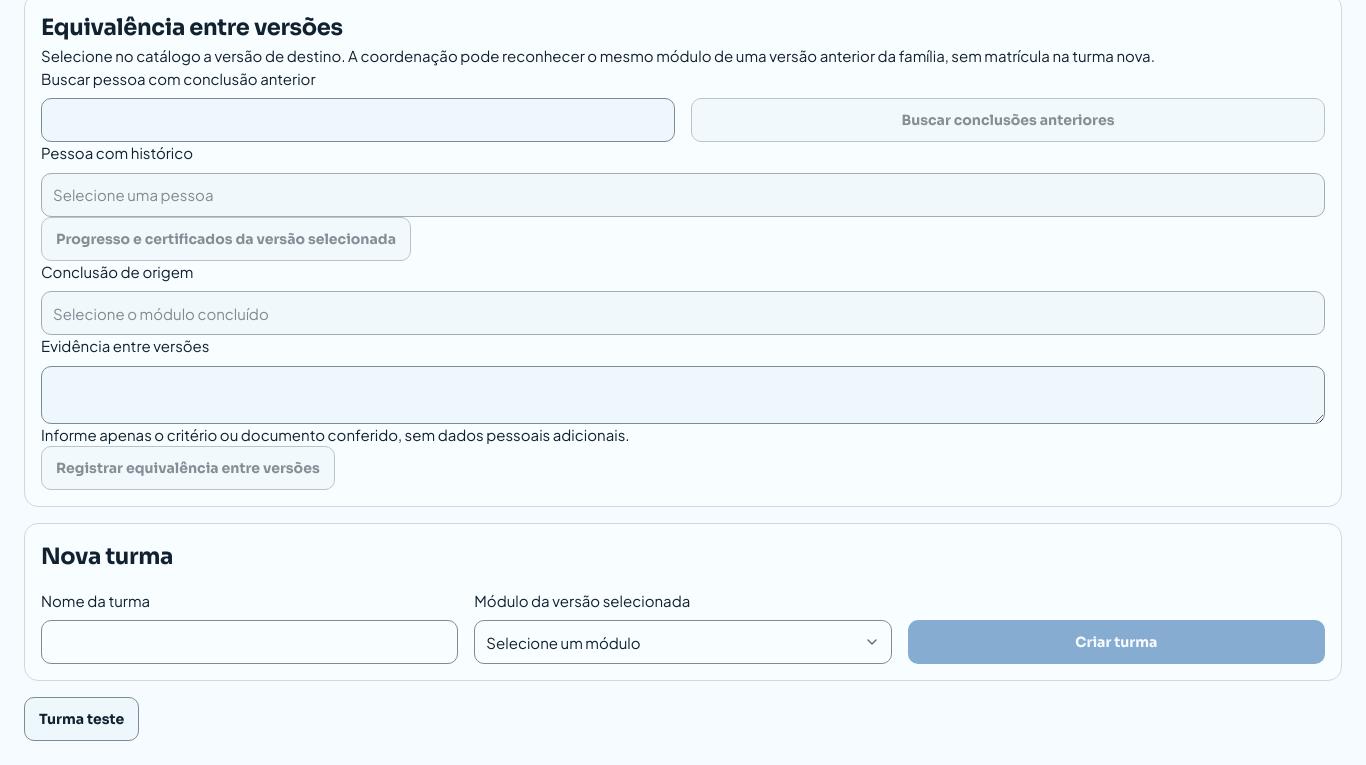
Scenario: mostra pessoa arquivada e mantém cancelamento disponível
(page scrolled)
What coordinates should you click on to do the following:
click the button "Turma teste"
I would click on:
 (82, 719)
Its box is [24,697,139,741].
(page scrolled)
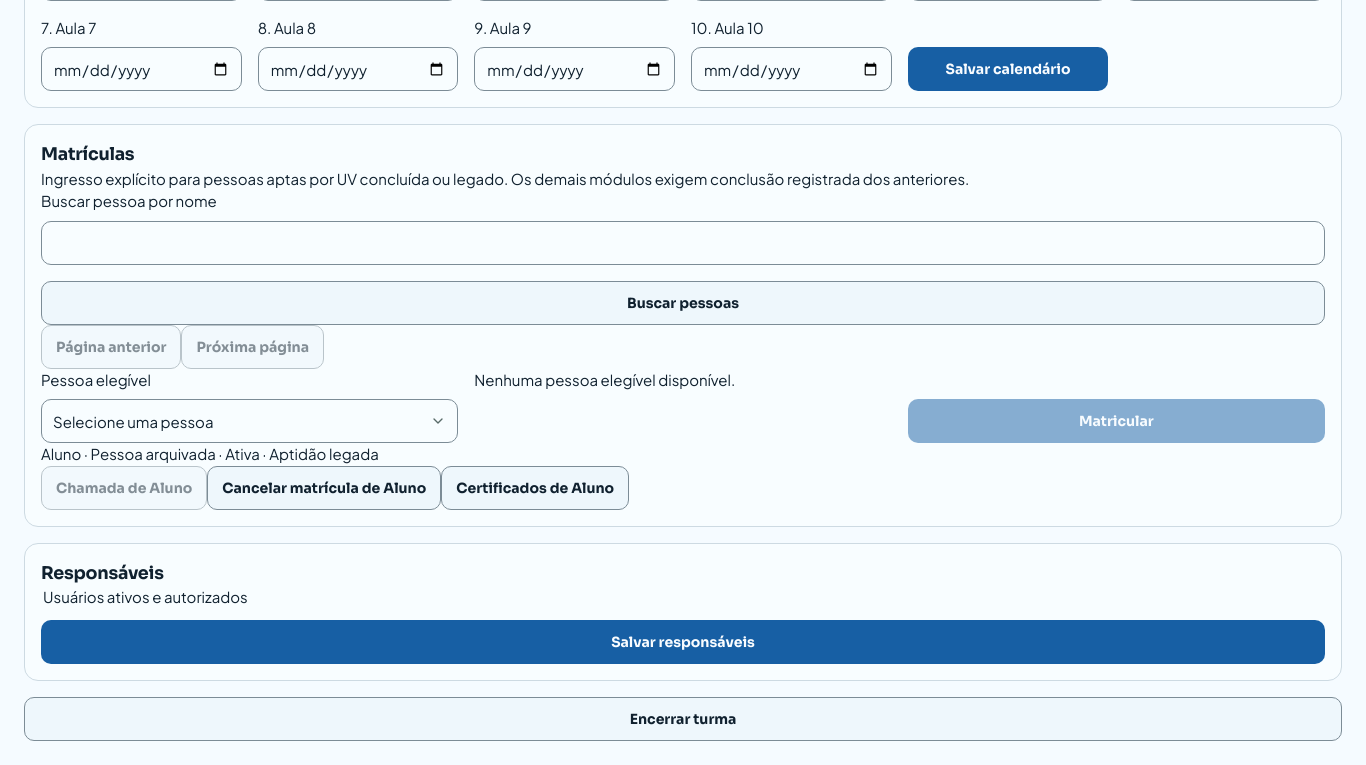
Expected: the text "Pessoa arquivada" is shown, [81,444,216,463]
Expected: the button "Cancelar matrícula de Aluno" is enabled, [207,466,441,510]
